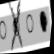correct: (36, 7, 52, 38)
no answer: (23, 11, 37, 35), (0, 17, 9, 44)
not correct: (2, 0, 29, 54)
